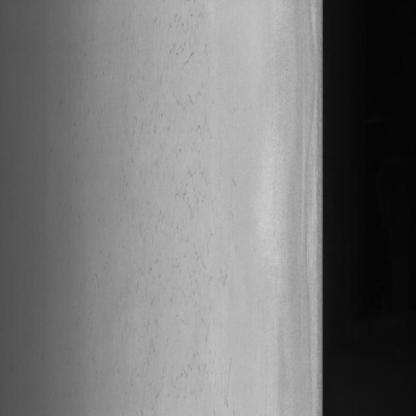silk_spot: (120, 0, 222, 356)
